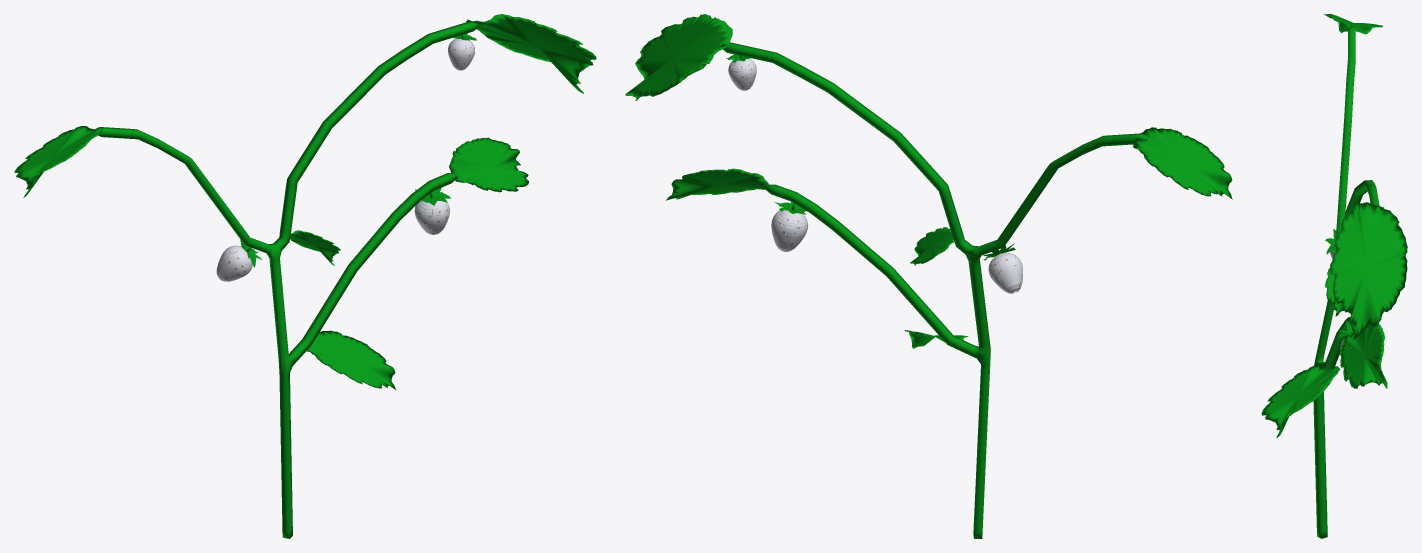
Rendered from Fraise_Croissance_2.fbx.
3 renders of one model, left to right at view 1: azimuth 30°, elevation 25°; view 2: azimuth 150°, elevation 25°; view 3: azimuth 270°, elevation 25°, orthographic. The views are drawn at different scales.
Visible parts, largest first — view 1: Plane.003, Plane.004, Plane, Plane.001, Plane.002, Fraise.003, Fraise.001, Fraise, Plane.005; view 2: Plane.003, Plane.004, Plane.002, Plane, Fraise.003, Fraise.001, Plane.005, Fraise; view 3: Plane.004, Plane.003, Plane, Plane.001, Plane.002, Plane.005.
Boxes of the visible parts, box(x1,y1,x2,y2) form: Plane.003: box(93, 21, 478, 538); Plane.004: box(466, 14, 596, 93); Plane: box(449, 137, 528, 192); Plane.001: box(304, 330, 396, 390); Plane.002: box(14, 126, 102, 197); Fraise.003: box(414, 187, 450, 234); Fraise.001: box(216, 239, 262, 281); Fraise: box(448, 33, 476, 70); Plane.005: box(290, 230, 340, 265); Plane.003: box(721, 42, 1147, 538); Plane.004: box(625, 14, 732, 100); Plane.002: box(1133, 127, 1232, 199); Plane: box(666, 168, 769, 200); Fraise.003: box(771, 202, 808, 251); Fraise.001: box(983, 241, 1022, 293); Plane.005: box(910, 227, 955, 265); Fraise: box(726, 54, 756, 90); Plane.004: box(1330, 202, 1407, 340); Plane.003: box(1313, 26, 1379, 538); Plane: box(1339, 323, 1387, 388); Plane.001: box(1261, 365, 1339, 438); Plane.002: box(1324, 14, 1383, 34); Plane.005: box(1325, 262, 1344, 316).
Size of the model in its own units: 90.21 by 68.41 by 20.54.
